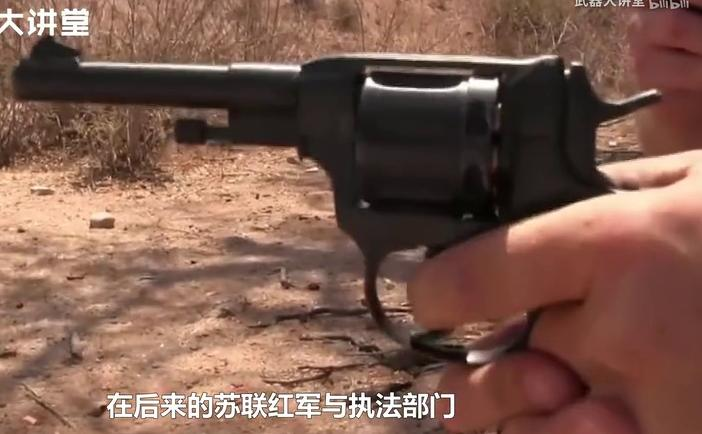gun: (1, 1, 702, 434)
